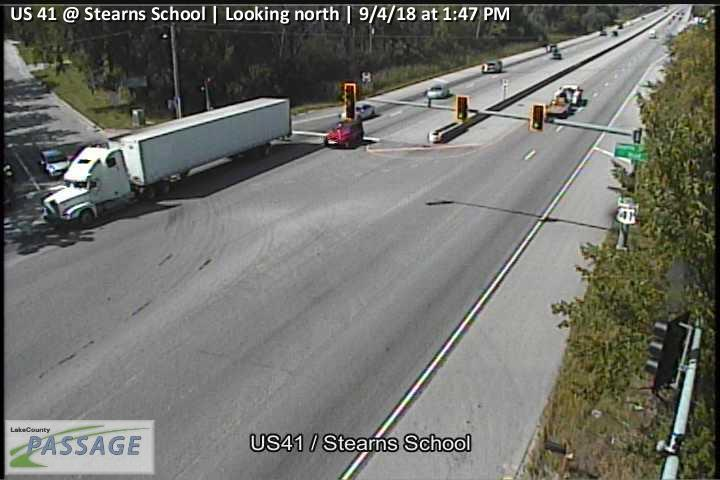SUV: (323, 120, 365, 149), (38, 146, 72, 178), (480, 60, 503, 74)
Sedan: (338, 100, 374, 120), (426, 80, 451, 99), (547, 51, 564, 61)
Truck: (42, 95, 292, 229), (544, 84, 584, 117)
